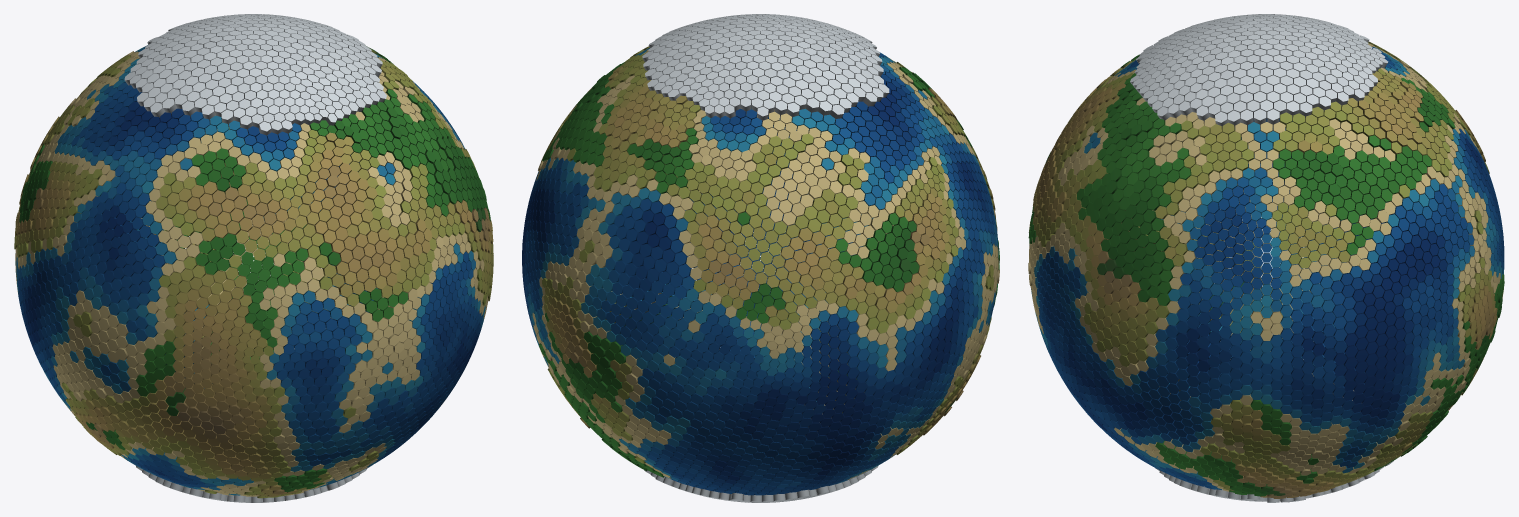
The model's file is terran_1.glb.
3 views of the same model, side by side, from view 1: azimuth 30°, elevation 25°; view 2: azimuth 150°, elevation 25°; view 3: azimuth 270°, elevation 25° (orthographic).
Parts seen in each view (by area): view 1: terran_1; view 2: terran_1; view 3: terran_1.
Boxes of the visible parts, bbox=[...] form: terran_1: bbox=[14, 14, 493, 502]; terran_1: bbox=[522, 14, 999, 502]; terran_1: bbox=[1028, 14, 1504, 502].
Bounding box in the file's own units: 2 × 2.05 × 2.
